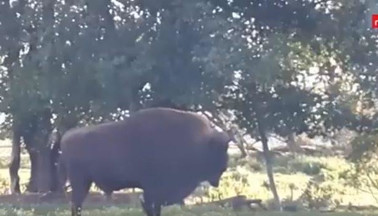zubr: (43, 98, 235, 216)
